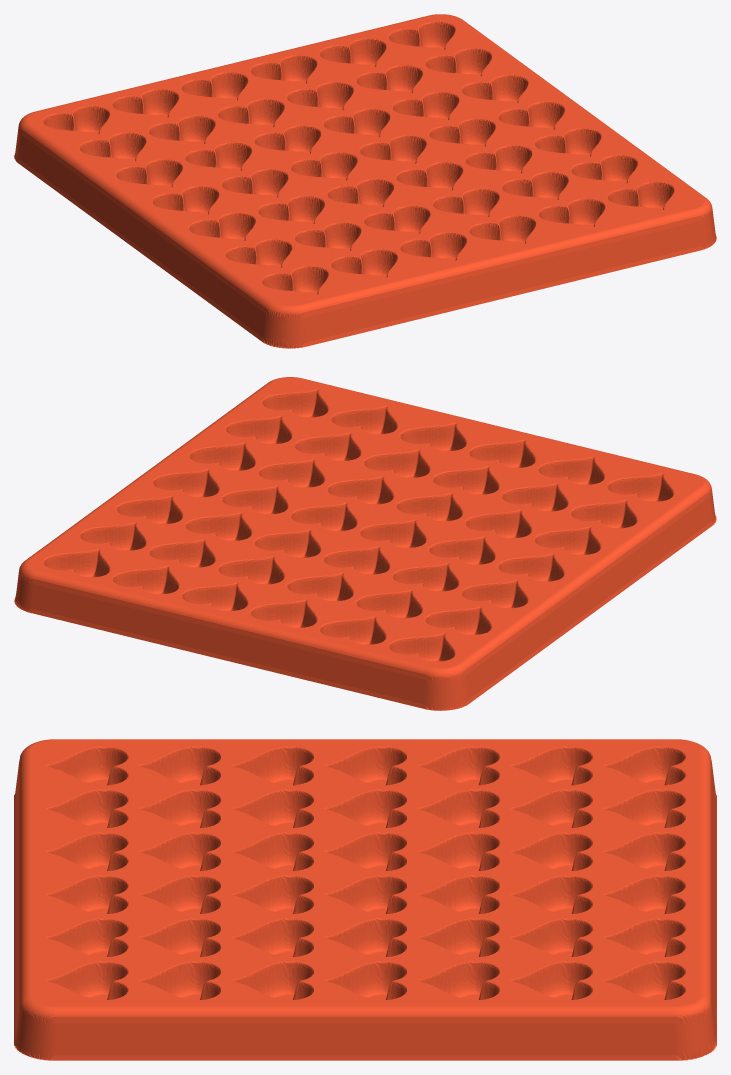
Rendered from mold.glb.
The picture shows the model from 3 angles, top to bottom: view 1: azimuth 30°, elevation 25°; view 2: azimuth 150°, elevation 25°; view 3: azimuth 270°, elevation 25°; orthographic projection. The views are drawn at different scales.
Parts seen in each view (by area): view 1: geometry_0; view 2: geometry_0; view 3: geometry_0.
Part boxes in pixels (x1,y1,x2,y2): geometry_0: [14, 14, 716, 348]; geometry_0: [14, 377, 716, 710]; geometry_0: [14, 739, 716, 1060].
Size of the model in its own units: 0.1437 by 0.0114 by 0.1524.
